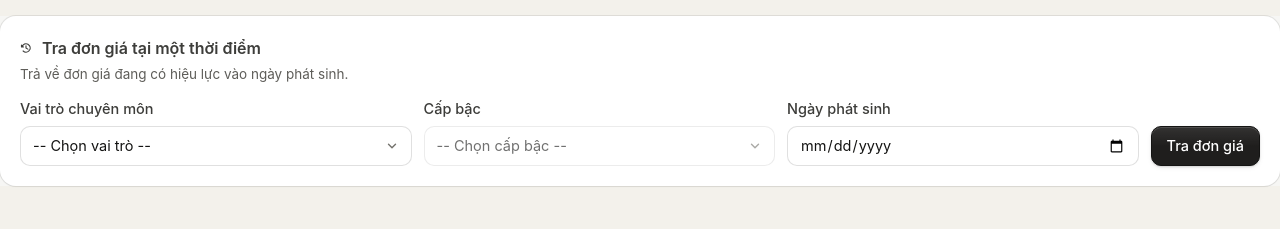
Test case: RateResolveLookup (NCL-07-CN-002 — Đặt hiệu lực theo thời điểm cho đơn giá) › chặn phía client khi thiếu trường bắt buộc, không gọi API
Click the button "Tra đơn giá". click: click(1205, 146)
box: [1150,126,1260,166]
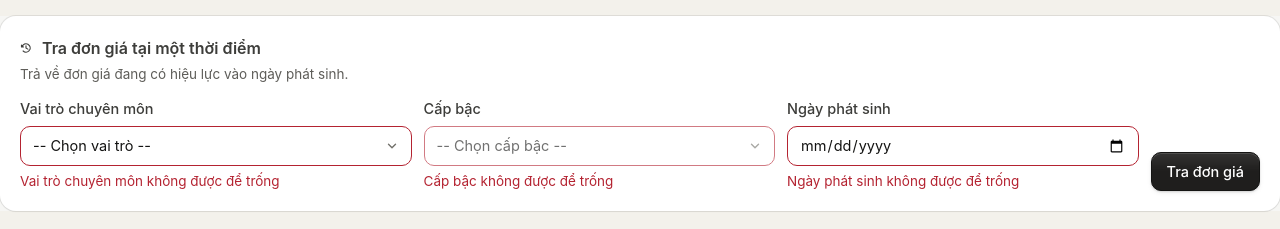
Result: the text "Vai trò chuyên môn không được để trống" is shown at [20,173,280,189]
